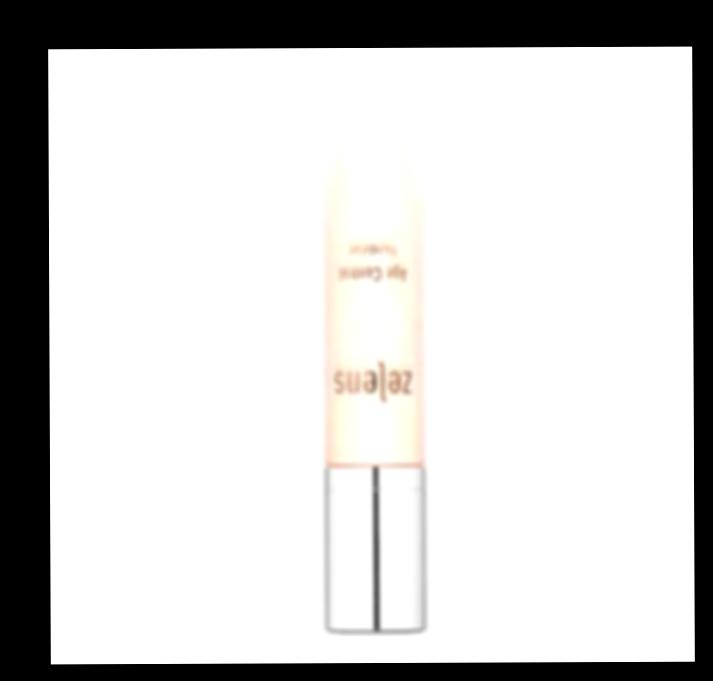cosmetic: (319, 68, 427, 635)
